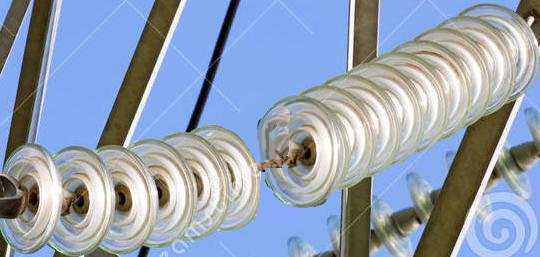gap: (188, 94, 351, 229)
